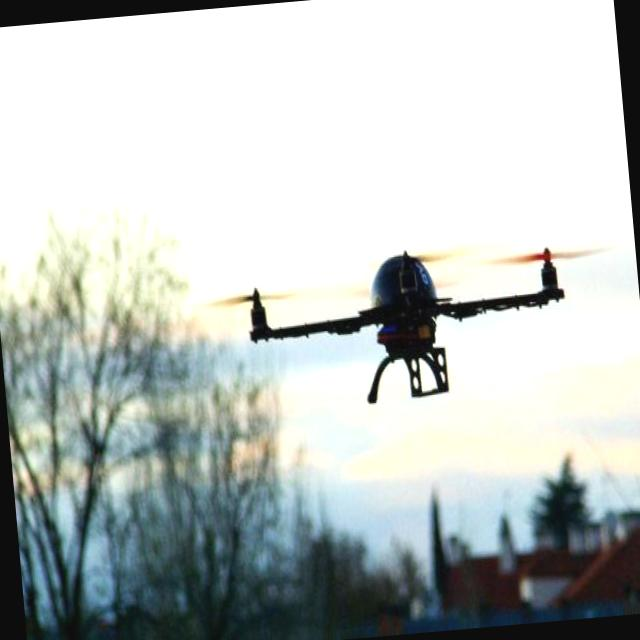drone: (240, 233, 576, 412)
